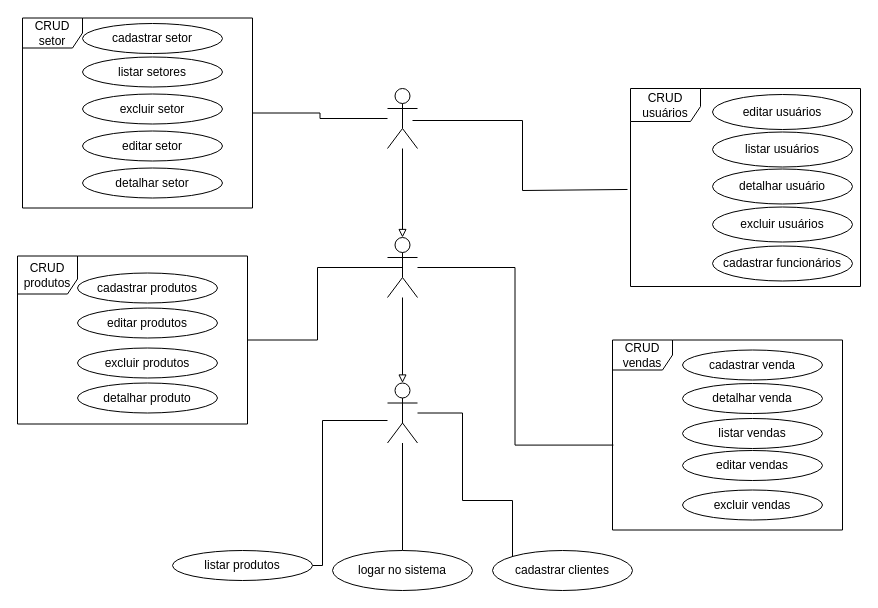
The diagram is 878 pixels wide and 608 high, and some of its shapes have lost their labels. Each missing label, with the box of its shape:
Administrador: (386, 88, 418, 148)
Cliente: (386, 382, 418, 443)
Funcionário: (386, 236, 418, 298)
